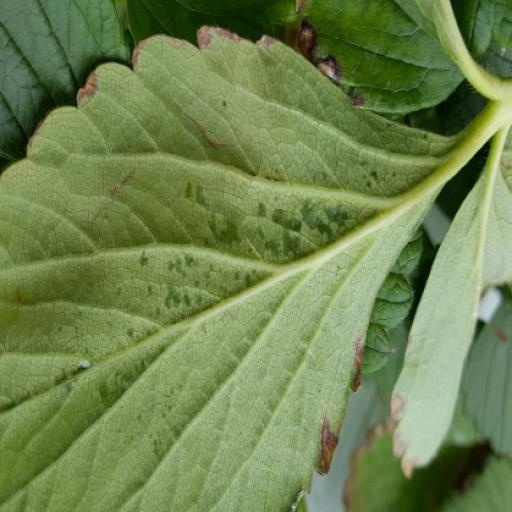Angular Leafspot: (113, 48, 478, 351), (237, 407, 439, 487)
